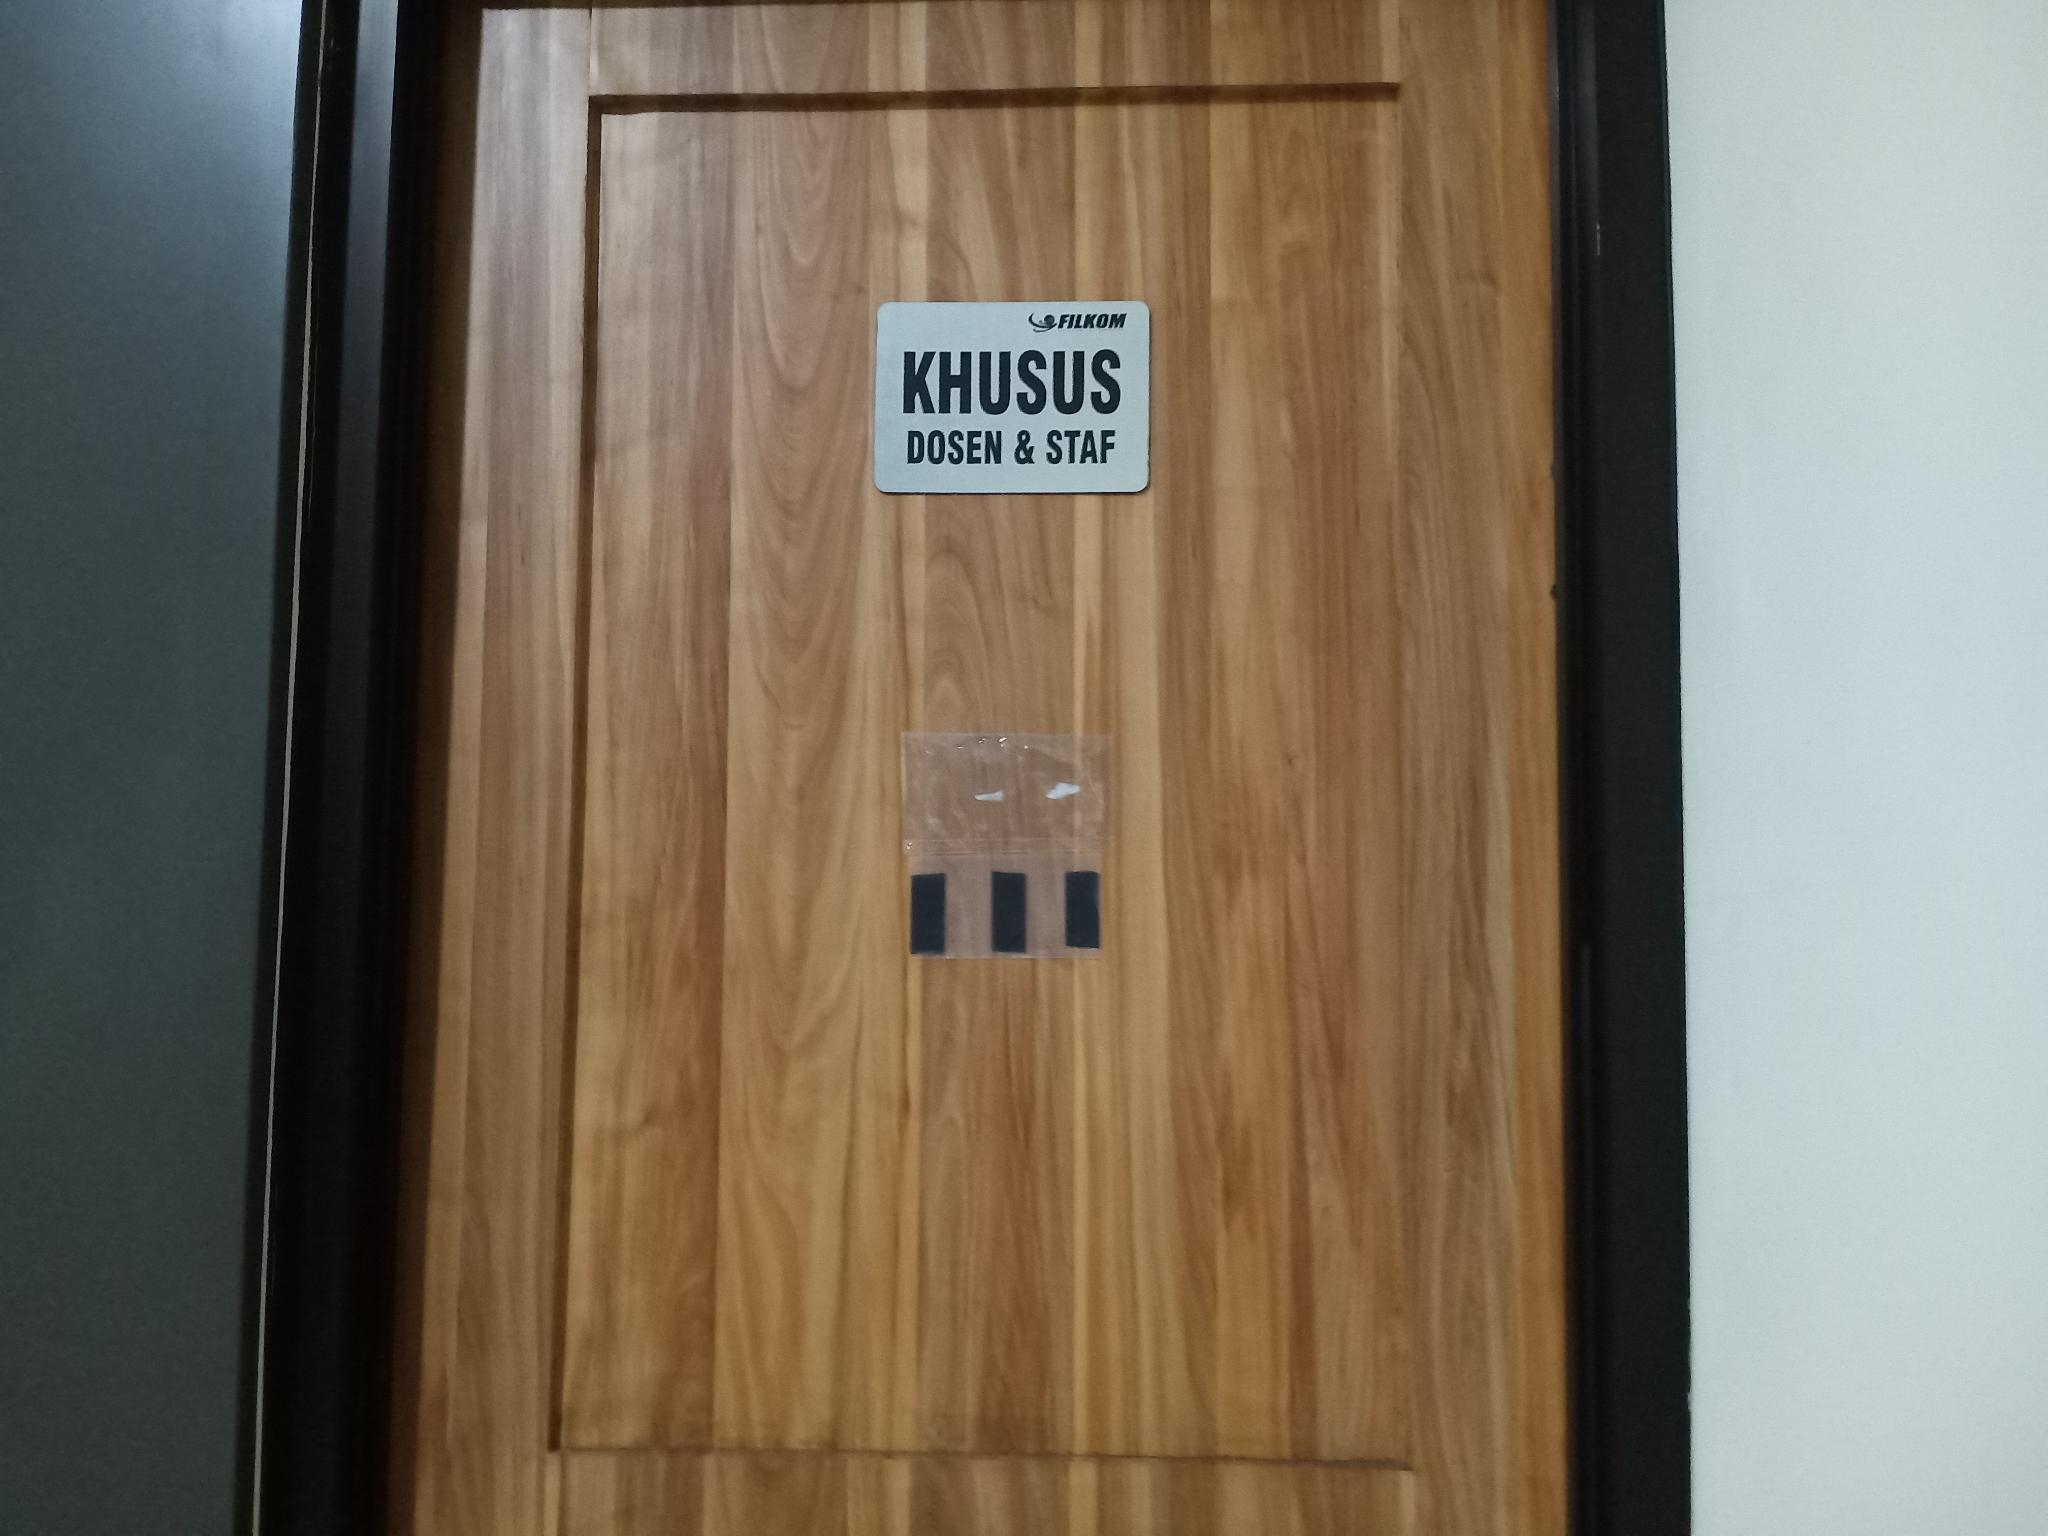plate: (874, 300, 1150, 494)
